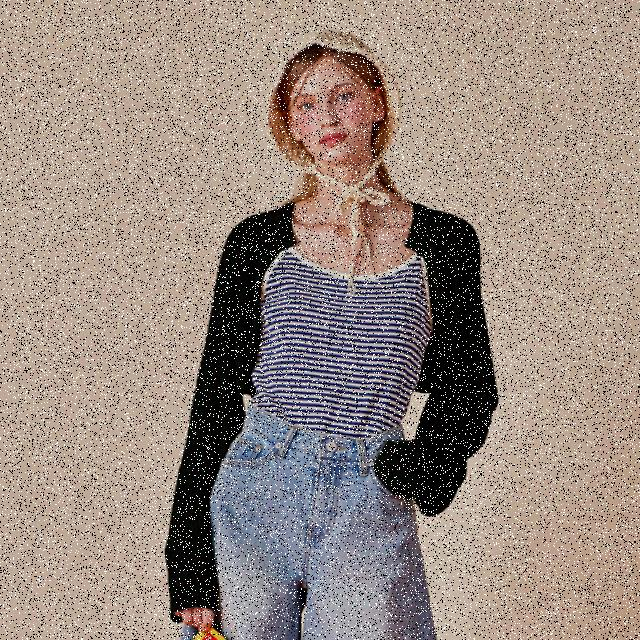dress: (164, 196, 496, 624)
